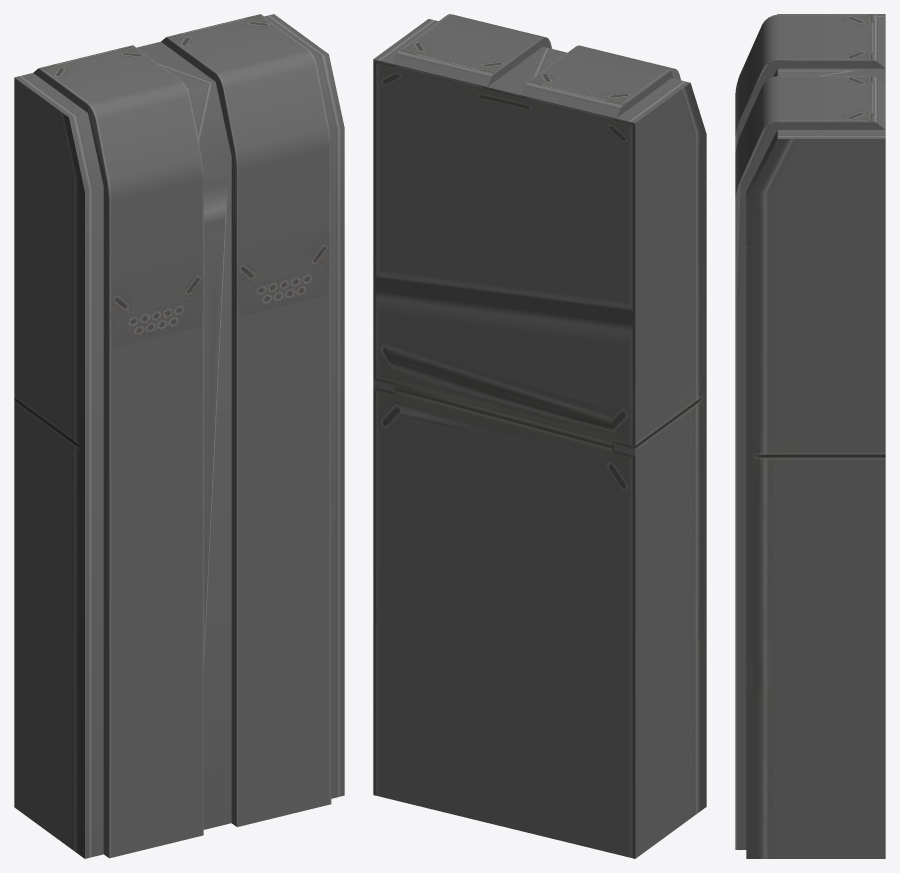
Rendered from locker.glb.
3 renders of one model, left to right at view 1: azimuth 30°, elevation 25°; view 2: azimuth 150°, elevation 25°; view 3: azimuth 270°, elevation 25°, orthographic. The views are drawn at different scales.
Parts seen in each view (by area): view 1: Prop_Locker; view 2: Prop_Locker; view 3: Prop_Locker.
Part boxes in pixels (box(x1,y1,x2,y2)): Prop_Locker: box(14, 14, 344, 858); Prop_Locker: box(373, 14, 706, 858); Prop_Locker: box(735, 14, 885, 858).
Size of the model in its own units: 0.9829 by 2.67 by 0.4994.
Materials: 1 (1 with a texture image).
